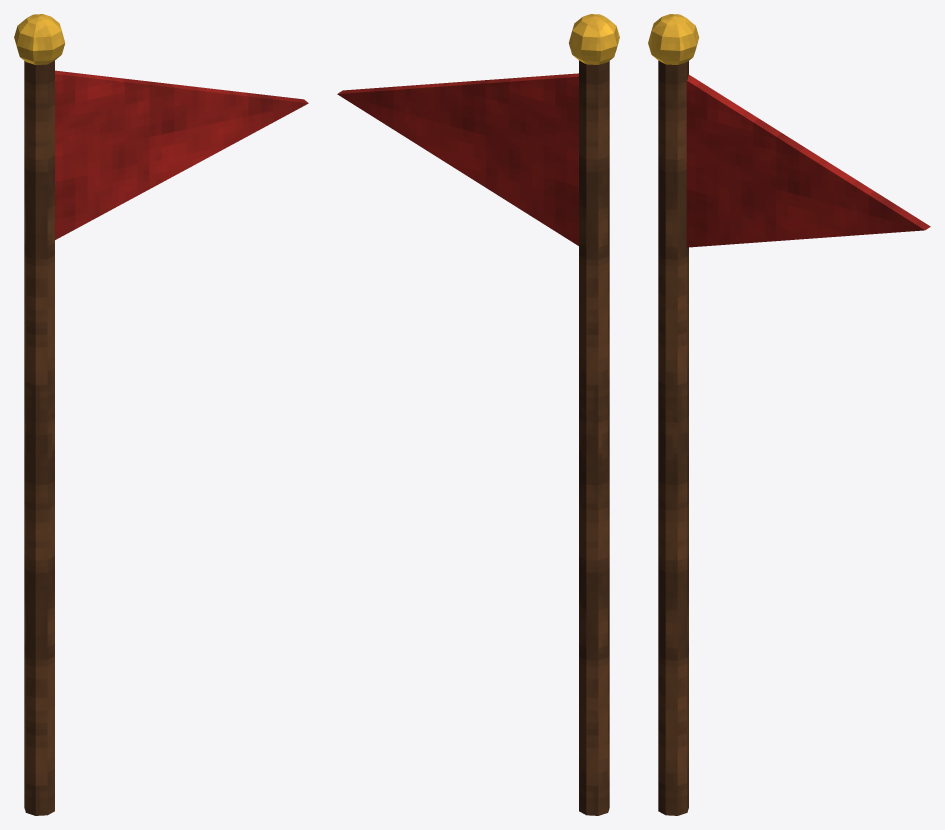
File: rank_1.gltf
3 renders of one model, left to right at view 1: azimuth 30°, elevation 25°; view 2: azimuth 150°, elevation 25°; view 3: azimuth 330°, elevation 25°, orthographic.
Parts seen in each view (by area): view 1: rank_1_wood, rank_1_pennant, rank_1_gold; view 2: rank_1_wood, rank_1_pennant, rank_1_gold; view 3: rank_1_wood, rank_1_pennant, rank_1_gold.
Part boxes in pixels (left/top/right/bottom): rank_1_wood: left=24, top=60, right=54, bottom=815; rank_1_pennant: left=55, top=70, right=308, bottom=239; rank_1_gold: left=14, top=14, right=65, bottom=64; rank_1_wood: left=579, top=60, right=609, bottom=815; rank_1_pennant: left=337, top=73, right=578, bottom=245; rank_1_gold: left=569, top=14, right=619, bottom=64; rank_1_wood: left=658, top=60, right=688, bottom=815; rank_1_pennant: left=686, top=74, right=930, bottom=247; rank_1_gold: left=648, top=14, right=699, bottom=64.
Bounding box in the file's own units: 0.3707 × 0.99 × 0.06.
3 materials, 3 textured.
